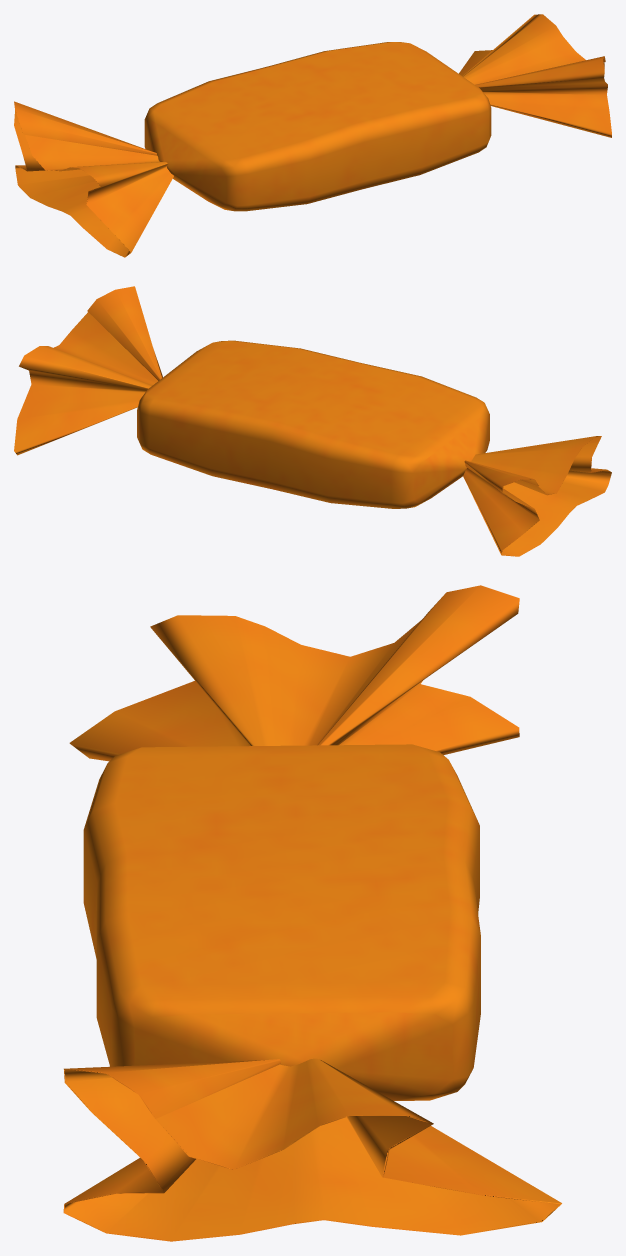
Rendered from PERMEN A.fbx.
3 views of the same model, one above another, from view 1: azimuth 30°, elevation 25°; view 2: azimuth 150°, elevation 25°; view 3: azimuth 270°, elevation 25° (orthographic). The views are drawn at different scales.
Visible parts, largest first — view 1: Diorama.019; view 2: Diorama.019; view 3: Diorama.019.
Part boxes in pixels (<box>): Diorama.019: <box>14,14,611,257</box>; Diorama.019: <box>14,286,611,556</box>; Diorama.019: <box>63,585,561,1241</box>.
Bounding box in the file's own units: 190 × 78.5 × 28.9.
1 material, 1 textured.
